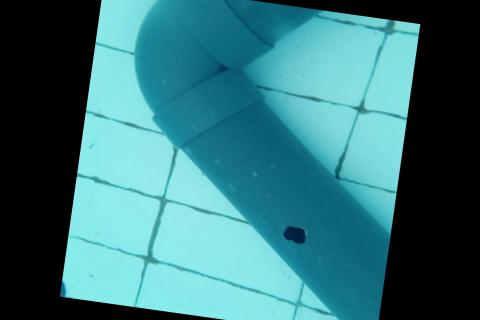kebocoran: (278, 221, 310, 245)
